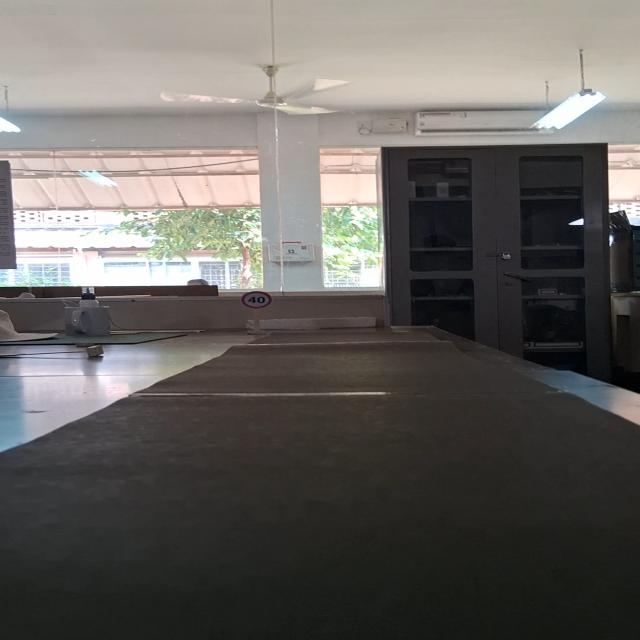Speed40: (239, 290, 273, 310)
